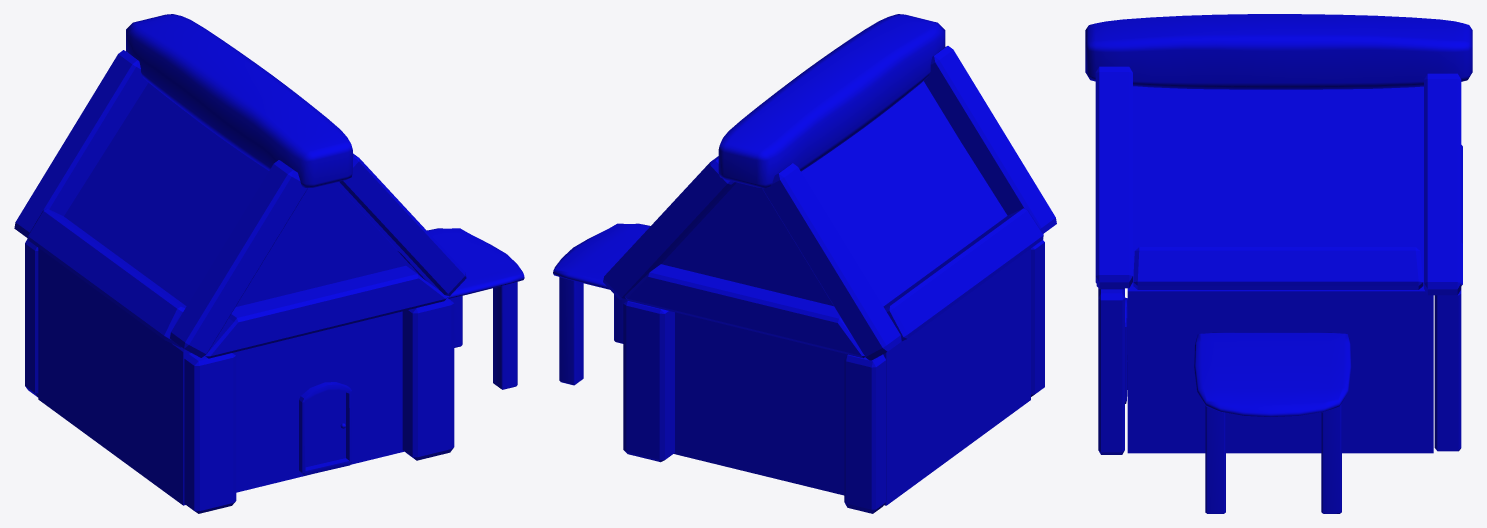
File: House.fbx
3 renders of one model, left to right at view 1: azimuth 30°, elevation 25°; view 2: azimuth 150°, elevation 25°; view 3: azimuth 270°, elevation 25°, orthographic. The views are drawn at different scales.
Visible parts, largest first — view 1: HOUSE_07; view 2: HOUSE_07; view 3: HOUSE_07.
Boxes of the visible parts, box(x1,y1,x2,y2) form: HOUSE_07: box(14, 14, 524, 513); HOUSE_07: box(553, 14, 1056, 513); HOUSE_07: box(1085, 14, 1472, 513).
Bounding box in the file's own units: 822 × 666 × 639.
